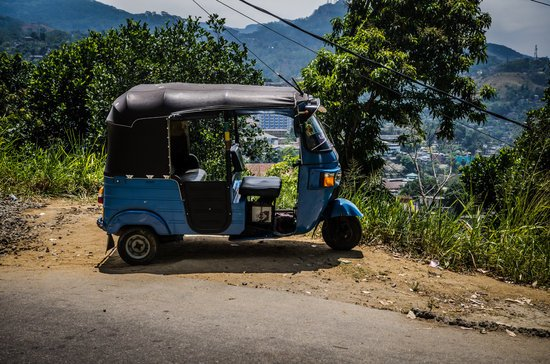threewheel: (97, 82, 363, 266)
